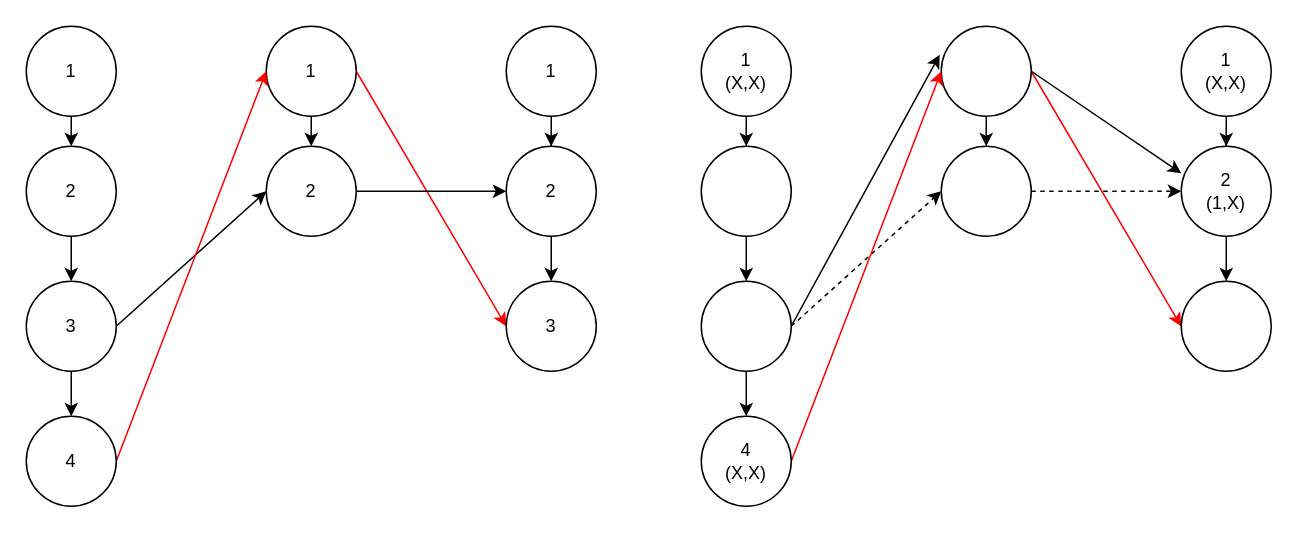
This 1298x533 diagram has some shape labels left out. Here are the shapes that lost their labels. From the top down, the box of each, then its label:
(940, 25, 1031, 116): 1 (4,X)
(700, 145, 791, 236): 2 (X,X)
(940, 145, 1031, 236): 2 (4,X)
(700, 280, 791, 371): 3 (X,X)
(1180, 280, 1271, 371): 3 (1,X)
